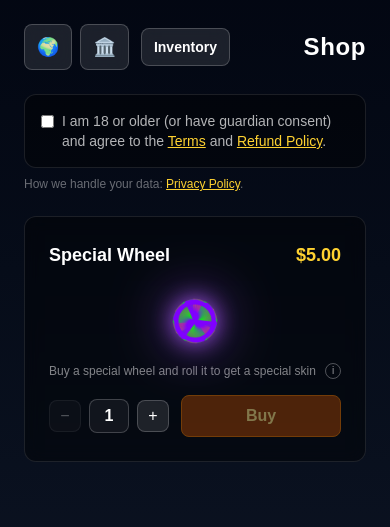
ShopPage › region_blocked shows an inline region message instead of navigating
This screenshot has width=390, height=527.
Click the checkbox at (48, 122), box [41,115,54,128]
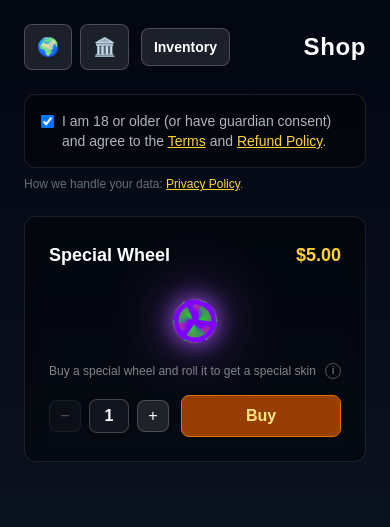
Click the button "Buy" at (261, 416), box [181,395,341,437]
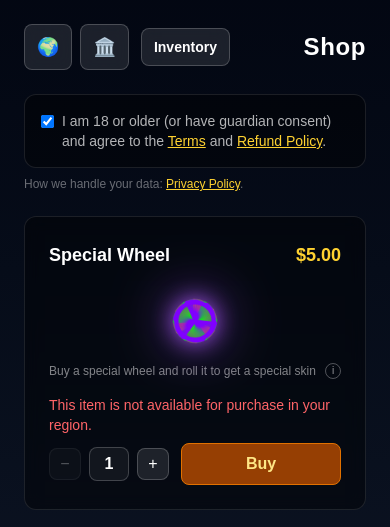
Check: the text "This item is not available for purchase in your region." is shown, box [49,395,341,435]
